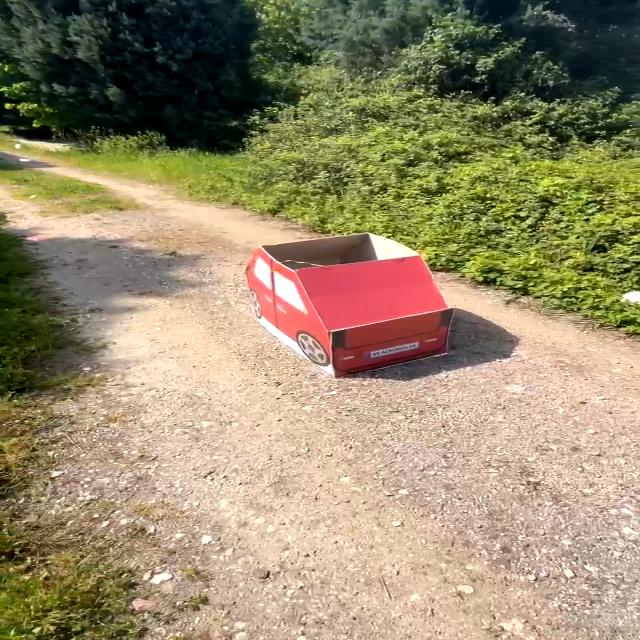red_car: (219, 228, 500, 402)
